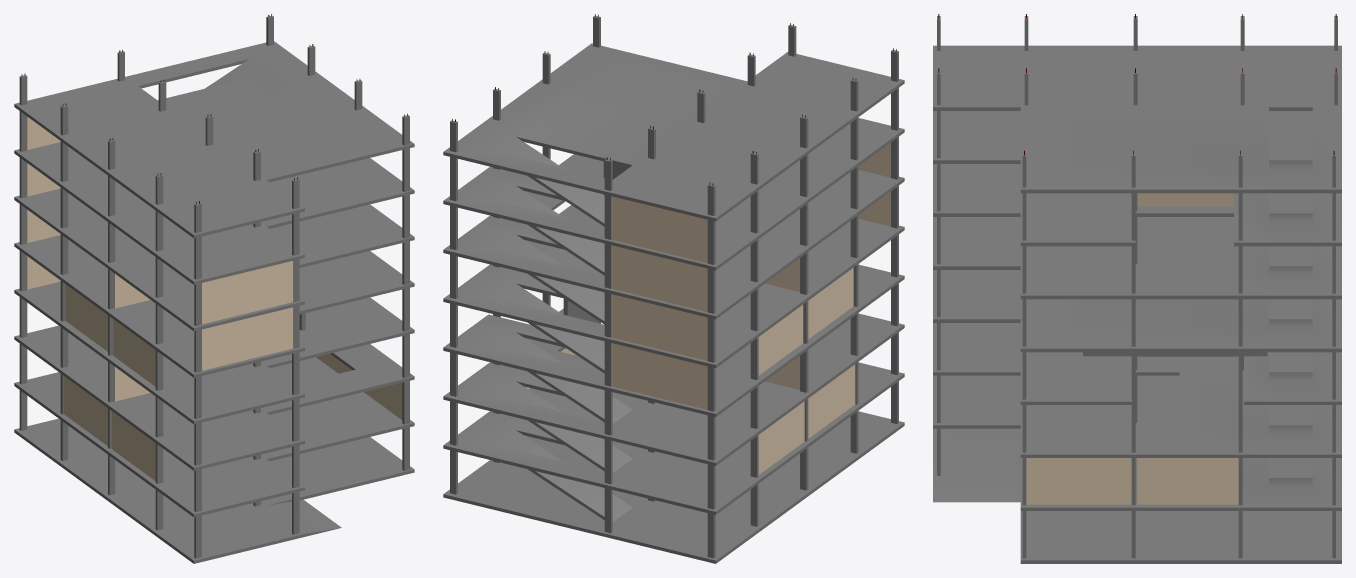
Rendered from ConstructionBuilding.fbx.
3 renders of one model, left to right at view 1: azimuth 30°, elevation 25°; view 2: azimuth 150°, elevation 25°; view 3: azimuth 270°, elevation 25°, orthographic. The views are drawn at different scales.
Parts seen in each view (by area): view 1: Floor, Drywall.007, Drywall.006, Pillar.004, Pillar.002, Pillar.010, Pillar.019, Pillar.001, Pillar.006, Pillar.005, Drywall.002, Drywall.001 (+9 smaller); view 2: Floor, Drywall.014, Drywall.013, Drywall.015, Drywall.016, Pillar.004, Pillar.007, Pillar.006, Pillar.011, Pillar.005, Pillar.019, Pillar.002 (+8 smaller); view 3: Floor, Drywall.005, Drywall.012, Pillar.013, Pillar.012, Pillar.010, Pillar.001, Pillar.011, Drywall, Wall, Pillar.008.
Boxes of the visible parts, x1,y1,x2,y2 form: Floor: [14, 41, 414, 563]; Drywall.007: [202, 307, 293, 370]; Drywall.006: [202, 261, 293, 324]; Pillar.004: [19, 73, 27, 430]; Pillar.002: [155, 173, 163, 530]; Pillar.010: [402, 113, 409, 470]; Pillar.019: [194, 201, 201, 558]; Pillar.001: [292, 177, 299, 534]; Pillar.006: [60, 103, 68, 460]; Pillar.005: [108, 138, 115, 495]; Drywall.002: [64, 376, 107, 445]; Drywall.001: [112, 411, 155, 480]; Floor: [443, 43, 904, 563]; Drywall.014: [611, 294, 707, 360]; Drywall.013: [611, 343, 707, 409]; Drywall.015: [611, 245, 707, 311]; Drywall.016: [611, 196, 707, 262]; Pillar.004: [707, 182, 715, 558]; Pillar.007: [604, 157, 612, 533]; Pillar.006: [750, 151, 758, 526]; Pillar.011: [450, 118, 457, 494]; Pillar.005: [800, 114, 808, 490]; Pillar.019: [891, 48, 898, 423]; Pillar.002: [850, 78, 858, 453]; Floor: [933, 45, 1341, 563]; Drywall.005: [1026, 458, 1131, 504]; Drywall.012: [1137, 458, 1238, 504]; Pillar.013: [1238, 150, 1242, 558]; Pillar.012: [1131, 150, 1135, 558]; Pillar.010: [1022, 150, 1026, 558]; Pillar.001: [937, 68, 940, 475]; Pillar.011: [1332, 150, 1335, 558]; Drywall: [1137, 193, 1233, 206]; Wall: [1083, 352, 1267, 356]; Pillar.008: [1133, 68, 1137, 422].
Bounding box in the file's own units: 1750 × 2315 × 2100.
